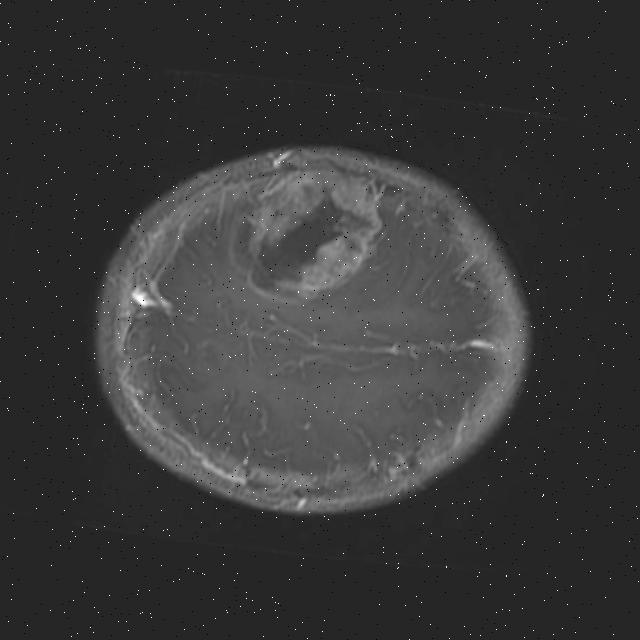Glioma: (220, 154, 394, 317)
